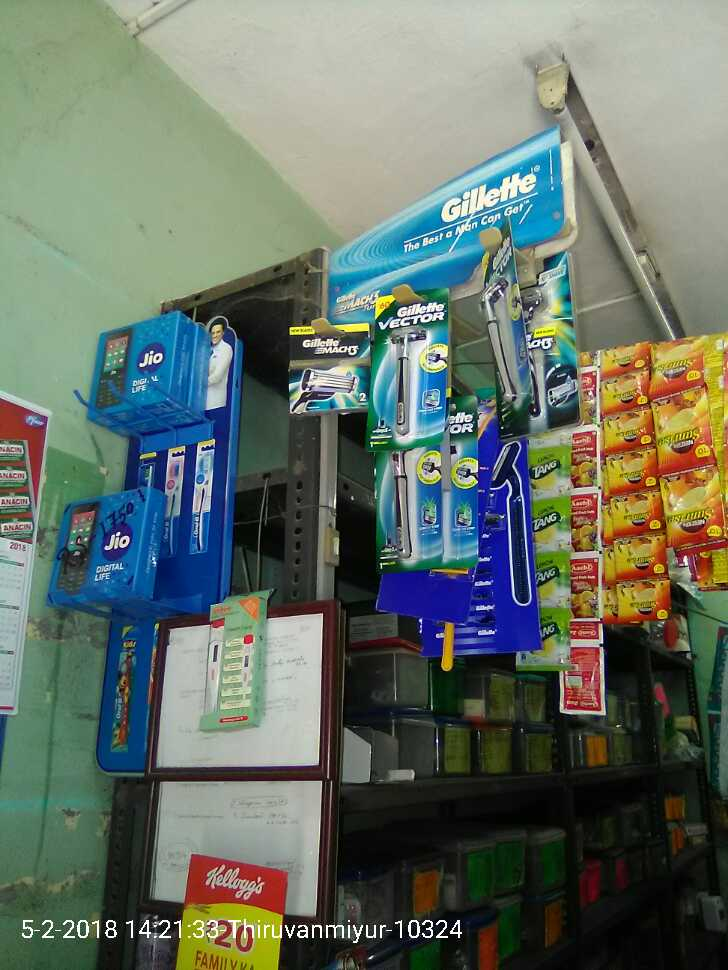gillette: (477, 247, 596, 439), (378, 291, 453, 448), (281, 333, 374, 410)
